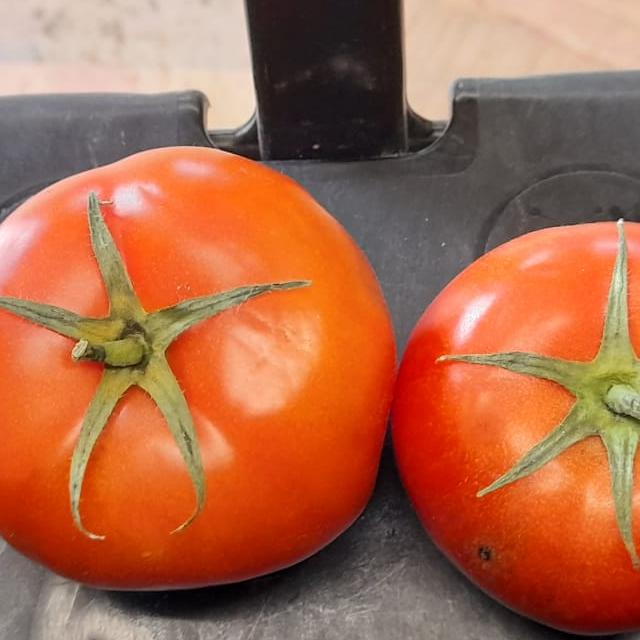tomato: (0, 112, 400, 610), (392, 190, 640, 640)
